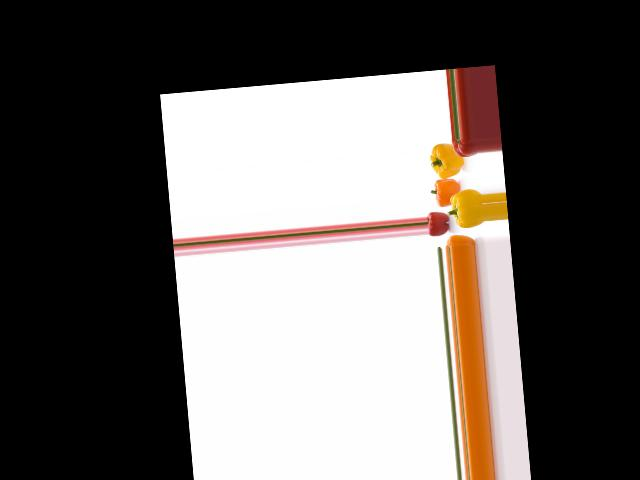bell_pepper: (443, 231, 475, 249)
